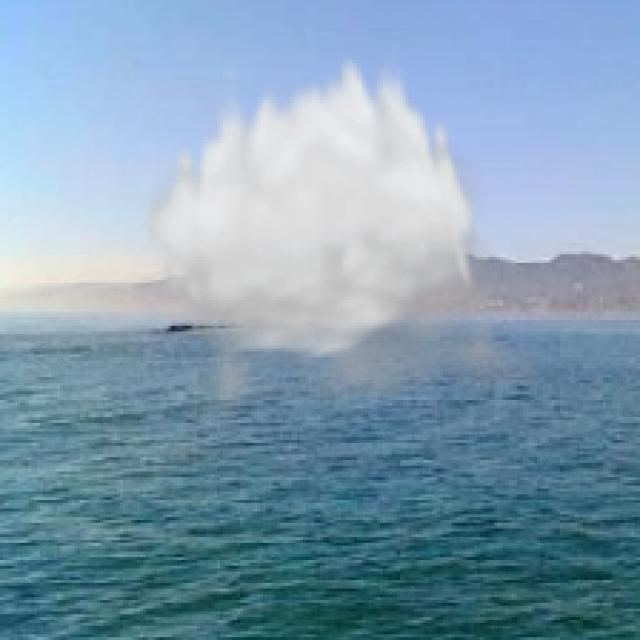Smoke: (140, 48, 549, 434)
